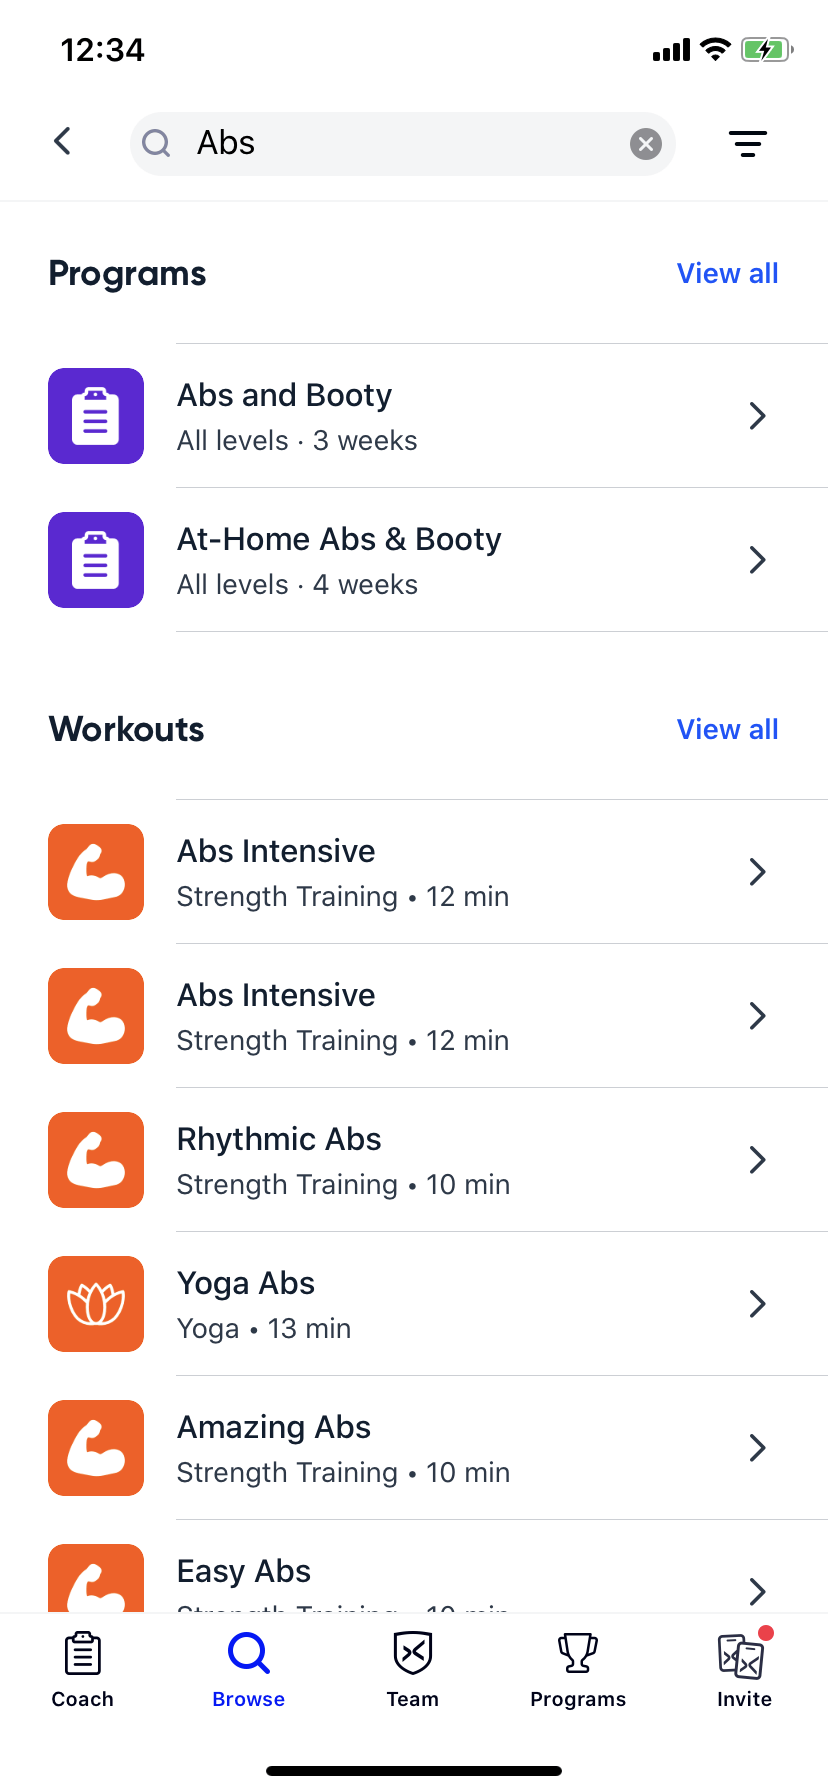Buttons: (646, 225, 801, 311), (646, 687, 801, 766), (700, 91, 796, 181), (21, 91, 105, 182)
